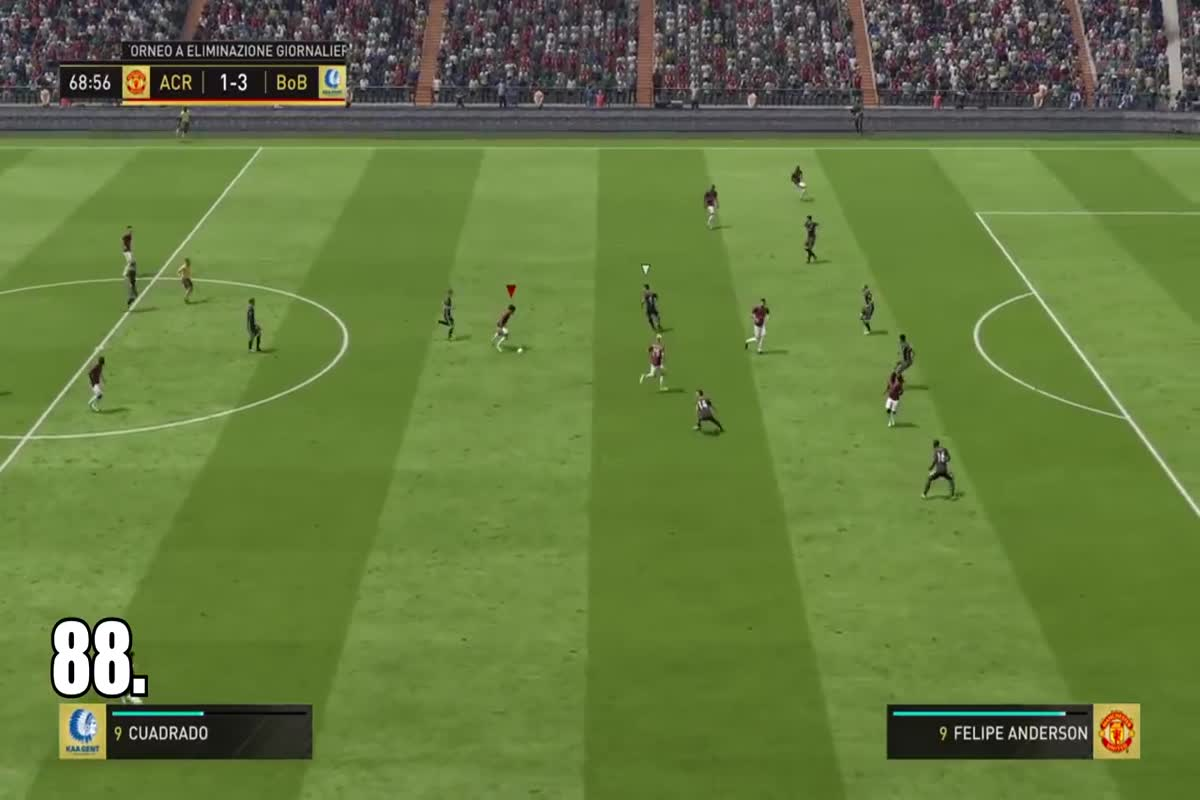ball: (512, 340, 533, 362)
